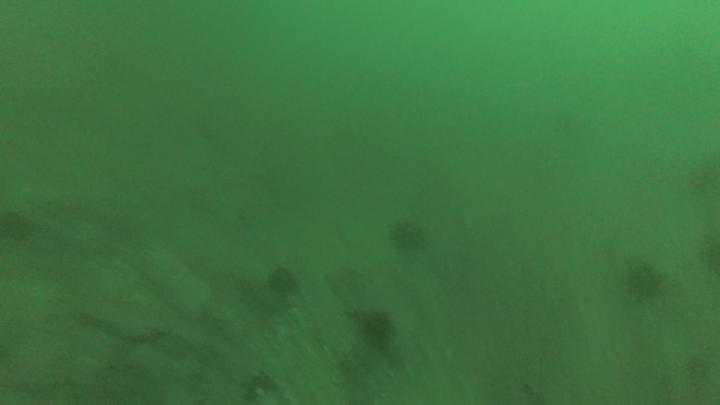echinus: (624, 261, 665, 311), (359, 307, 394, 355), (386, 218, 426, 260), (264, 259, 299, 300)
